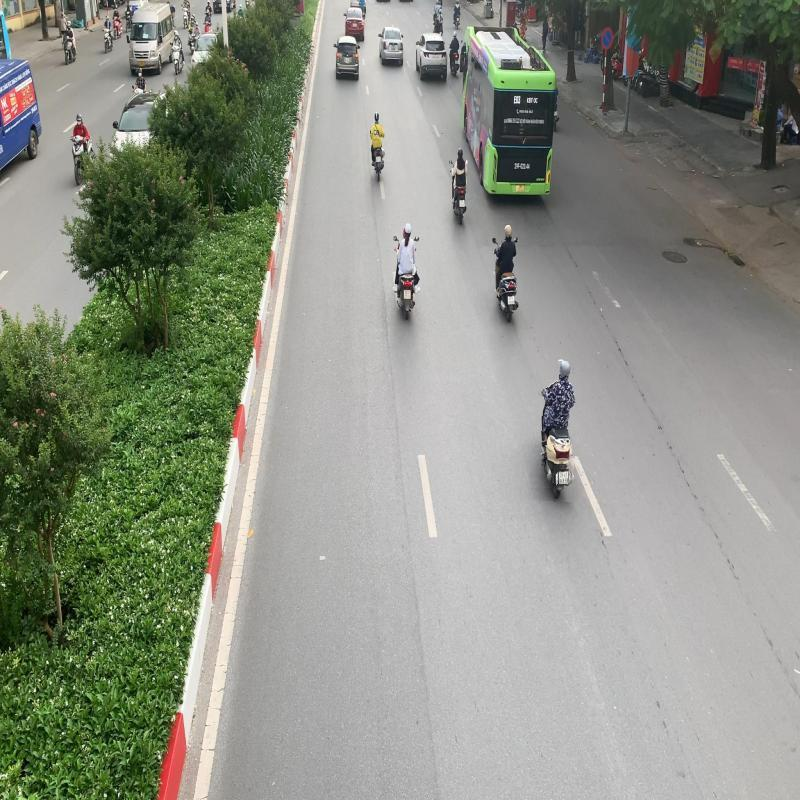helmet: (555, 359, 568, 377)
licenseplate: (558, 469, 569, 485)
motorcyclist: (530, 360, 579, 501)
